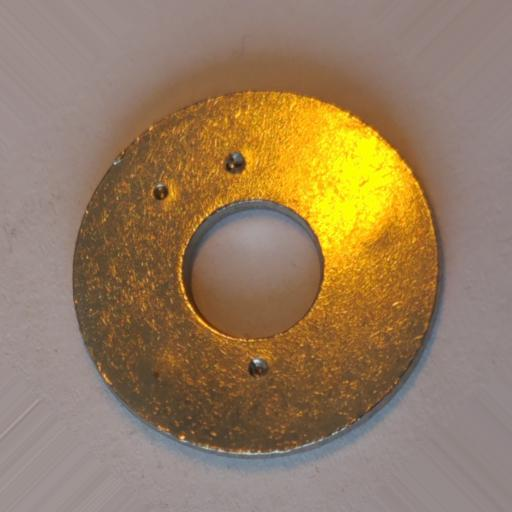circular_cavity: (248, 356, 271, 377), (225, 151, 246, 172), (153, 183, 170, 200)
